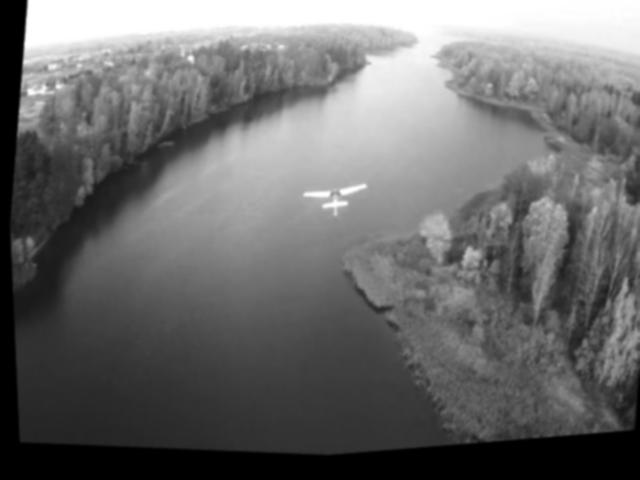hedef: (293, 175, 375, 235)
